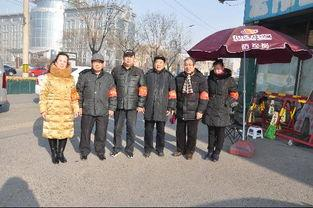up: (102, 45, 149, 165), (32, 49, 80, 166), (197, 53, 244, 165), (134, 51, 181, 162), (163, 51, 209, 163), (77, 50, 119, 164)
